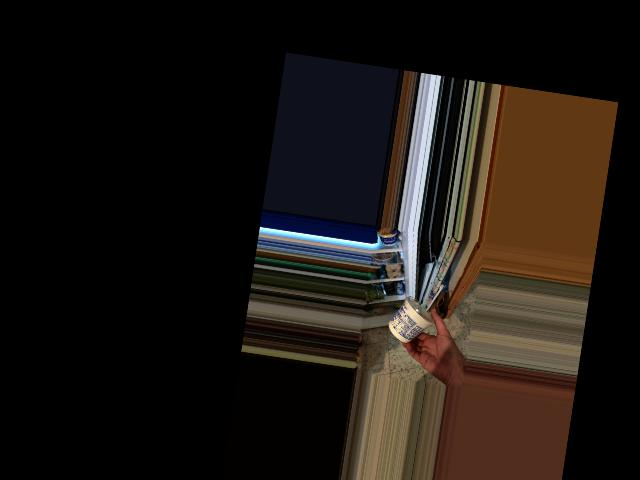cotage: (393, 293, 434, 340)
